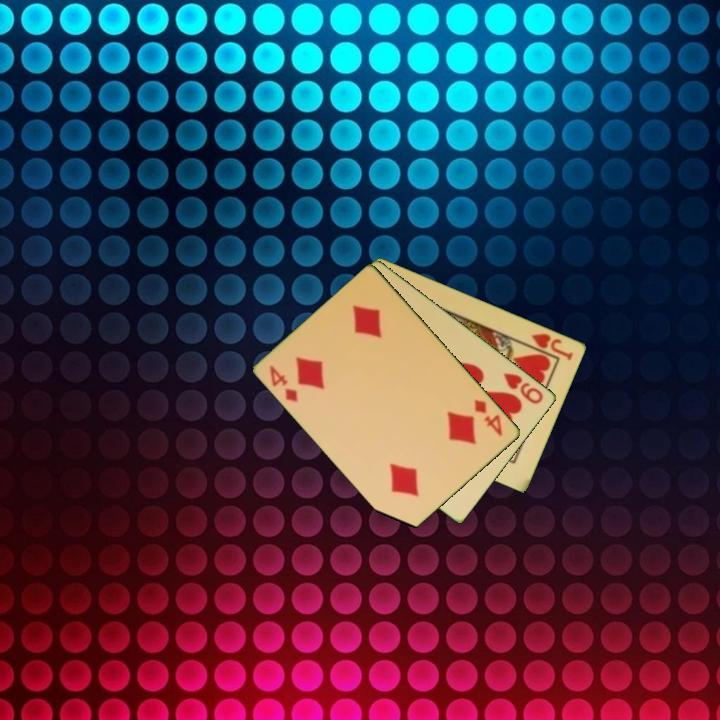4d: (471, 396, 506, 440), (266, 362, 301, 405)
9h: (500, 369, 547, 407)
Jh: (528, 329, 577, 363)
